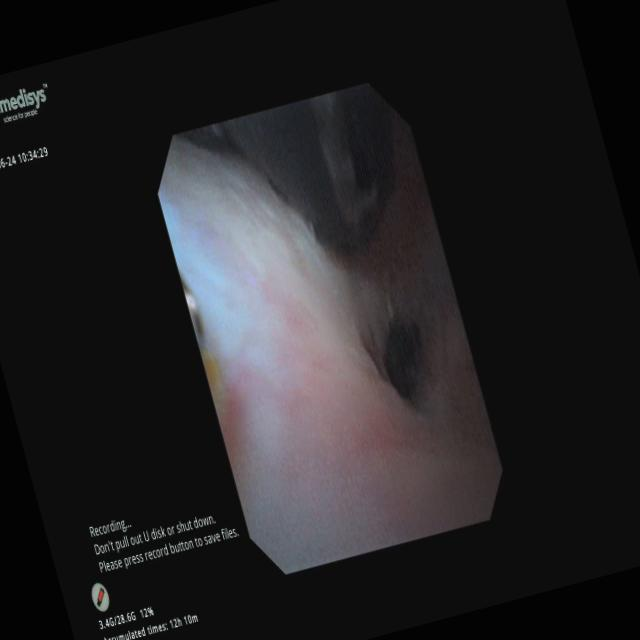stone-new: (182, 83, 391, 249)
